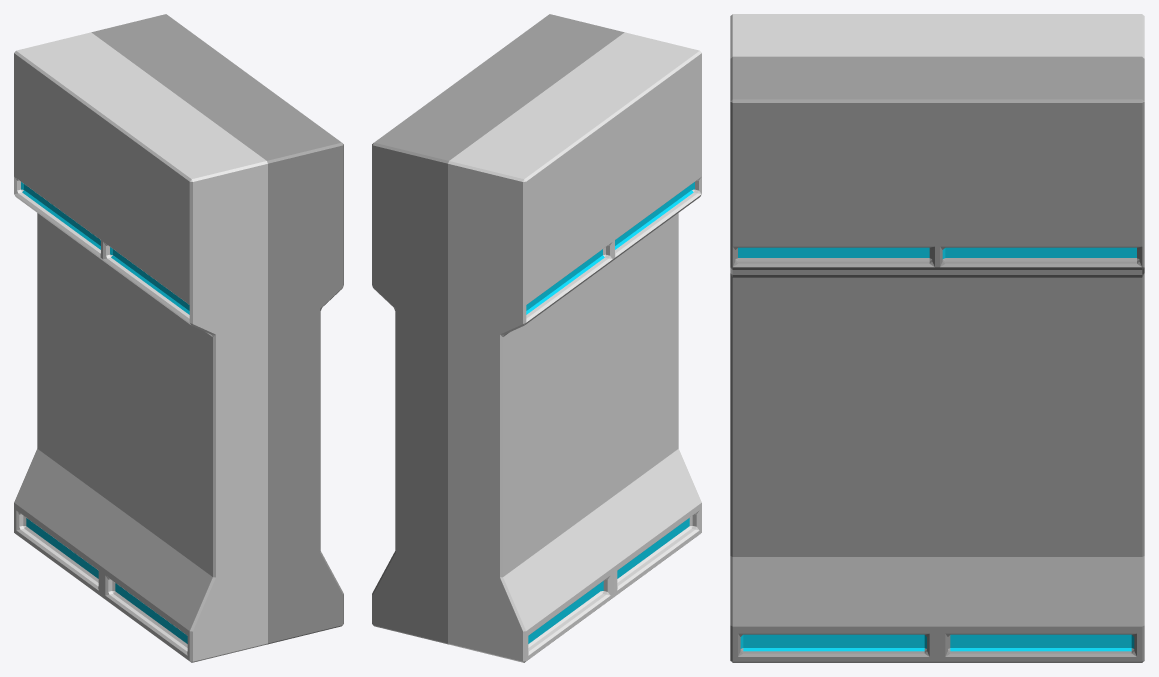
File: BaseWall.fbx
3 views of the same model, side by side, from view 1: azimuth 30°, elevation 25°; view 2: azimuth 150°, elevation 25°; view 3: azimuth 270°, elevation 25° (orthographic). The views are drawn at different scales.
Parts seen in each view (by area): view 1: Wall; view 2: Wall; view 3: Wall.
Part boxes in pixels (box(x1,y1,x2,y2)): Wall: box(14, 14, 343, 662); Wall: box(372, 14, 701, 662); Wall: box(730, 14, 1144, 662).
Bounding box in the file's own units: 200 × 600 × 400.
